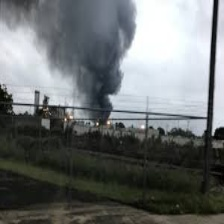smoke: (27, 1, 125, 131)
